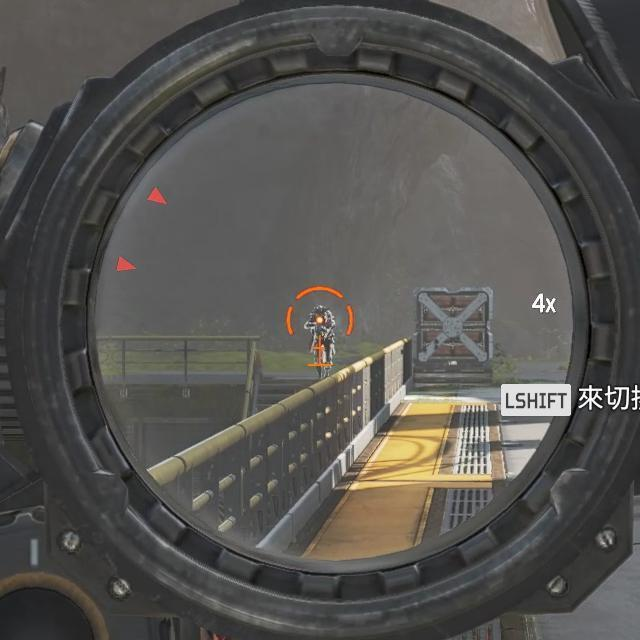avatar: (304, 304, 339, 377)
